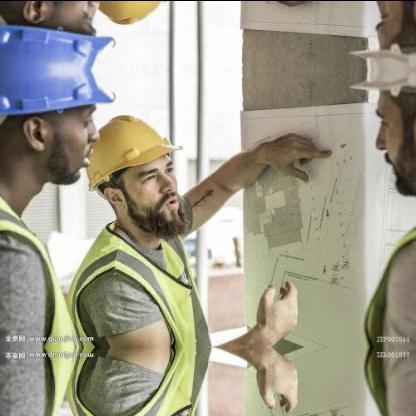Helmet: (82, 102, 188, 236), (344, 69, 414, 205), (0, 0, 125, 69), (344, 0, 414, 68), (81, 0, 190, 35)
